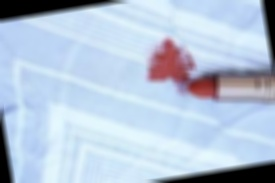lipstick: (143, 32, 203, 105)
